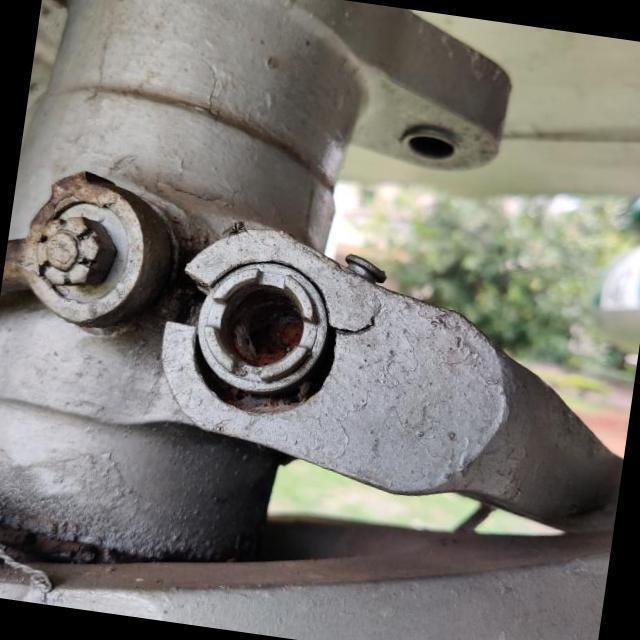Rupture: (330, 294, 384, 343)
